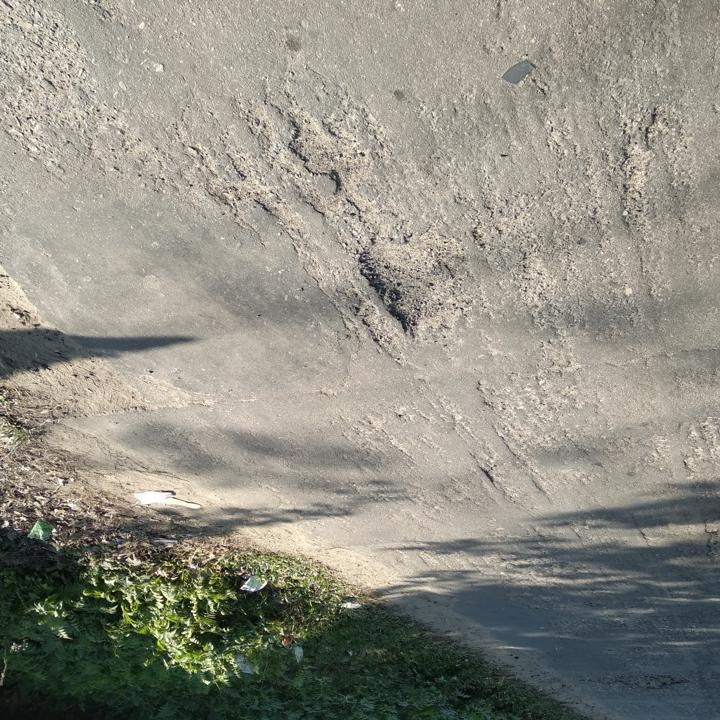pothole: (353, 237, 449, 341), (282, 114, 368, 190)
